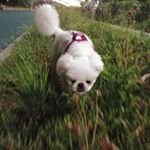puppy: (30, 1, 107, 109)
